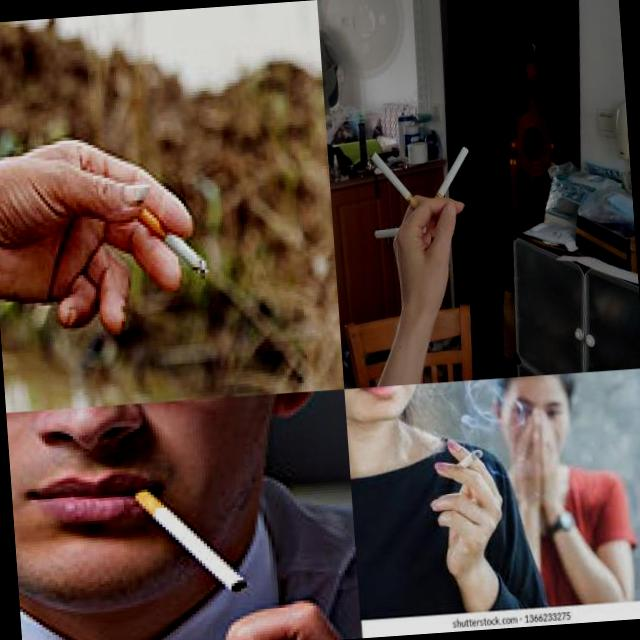cigarette: (125, 474, 248, 600), (137, 201, 210, 279), (370, 148, 424, 220), (426, 144, 474, 206), (449, 448, 484, 473), (374, 225, 428, 239)
